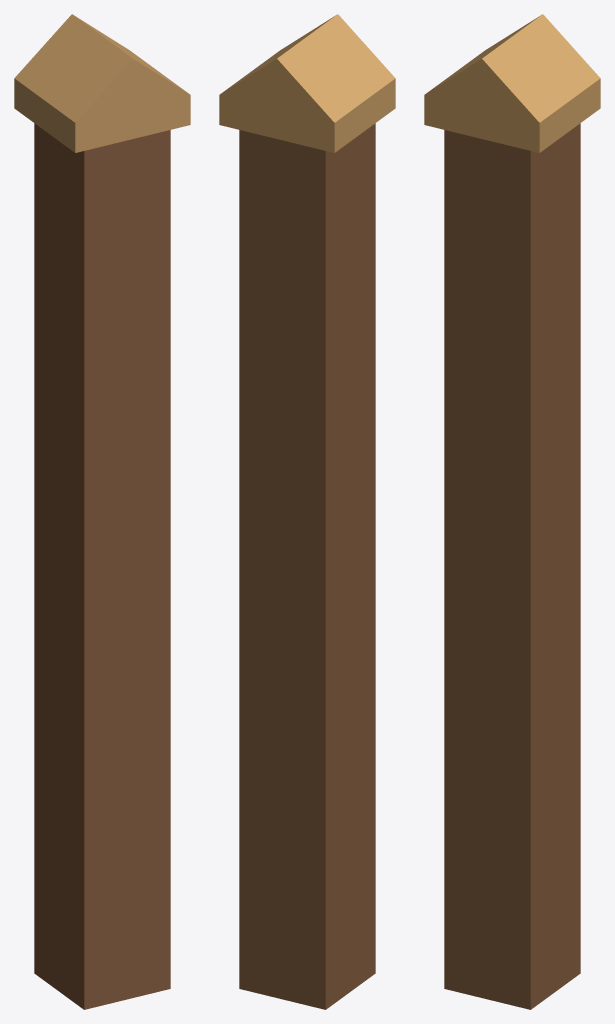
The model's file is fence-picket-post.lod1.glb.
The picture shows the model from 3 angles, left to right: view 1: azimuth 30°, elevation 25°; view 2: azimuth 150°, elevation 25°; view 3: azimuth 330°, elevation 25°; orthographic projection.
Visible parts, largest first — view 1: fence-picket-post_lod1; view 2: fence-picket-post_lod1; view 3: fence-picket-post_lod1.
Part boxes in pixels (x1,y1,x2,y2): fence-picket-post_lod1: (14,14,190,1009); fence-picket-post_lod1: (219,14,395,1009); fence-picket-post_lod1: (424,14,600,1009).
Bounding box in the file's own units: 0.12 × 0.94 × 0.11.
